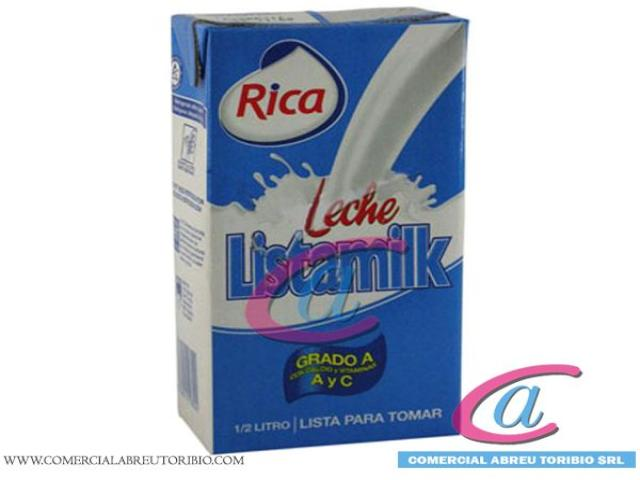drink_box: (160, 5, 470, 460)
